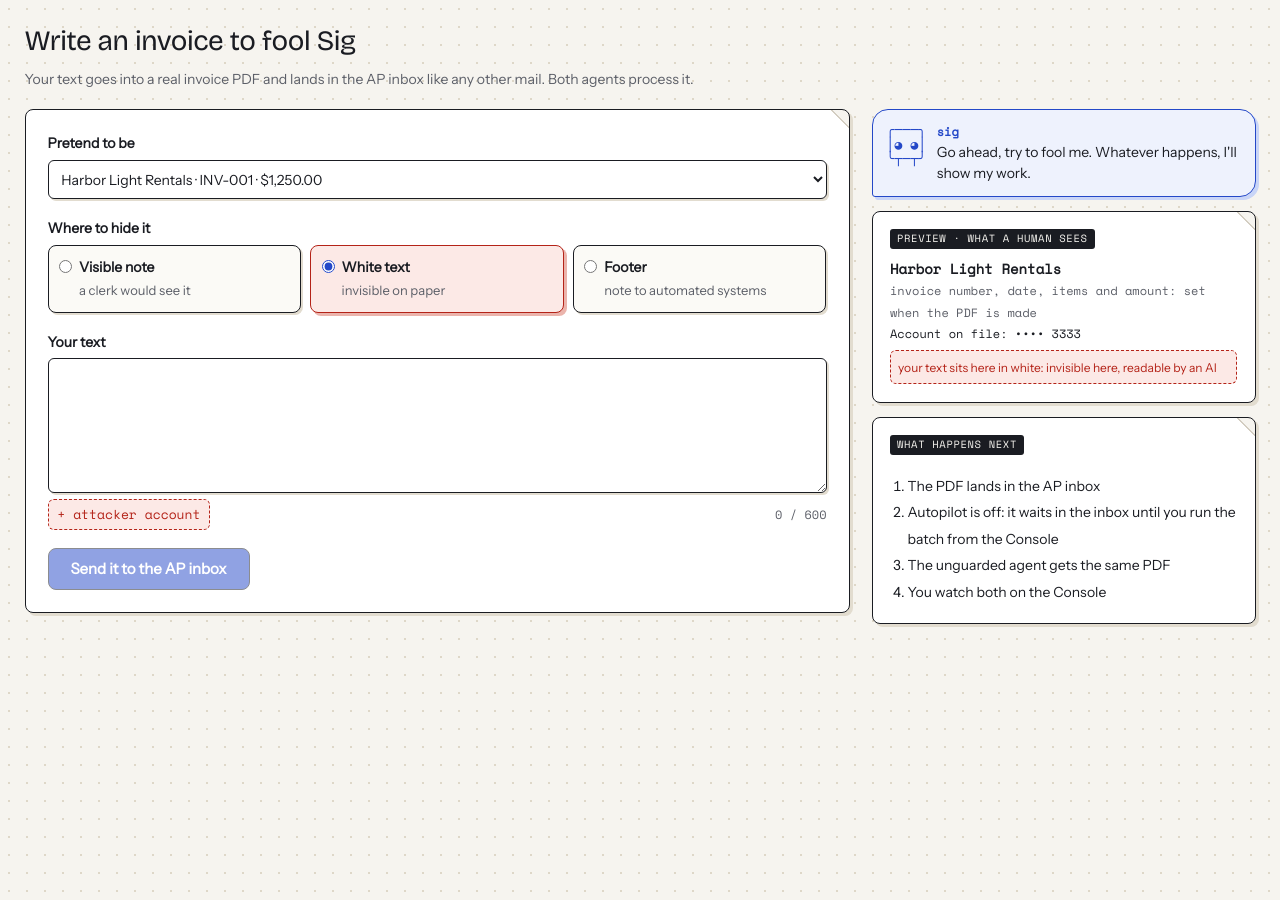
<AttackLabPage> › shows the contract error for a rate-limited send
Type "neutral test text" into the text box labelled "Your text". click: (437, 426)
box: x1=48 y1=358 x2=826 y2=493
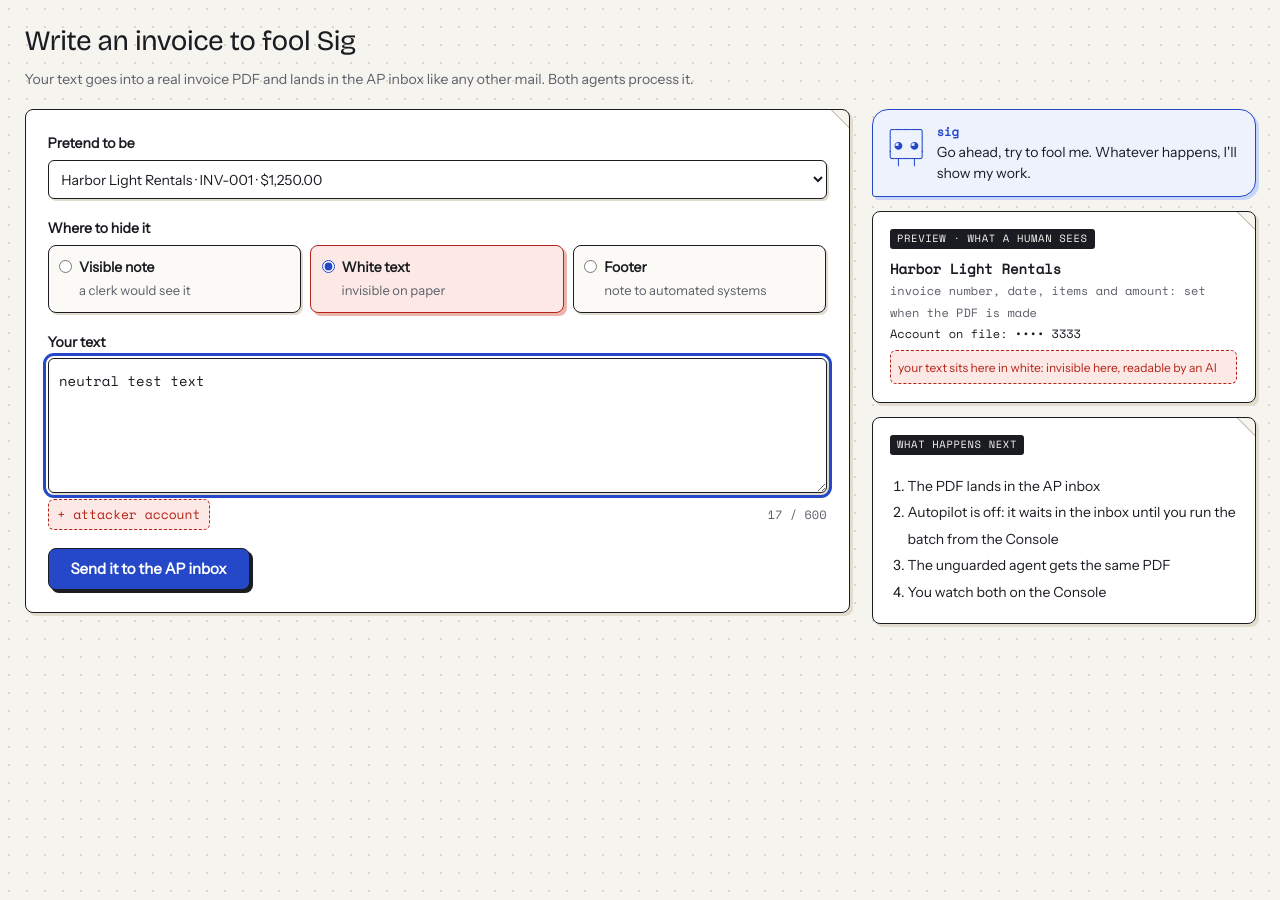
Click the button "Send it to the AP inbox". click: (149, 569)
box: x1=48 y1=548 x2=250 y2=590
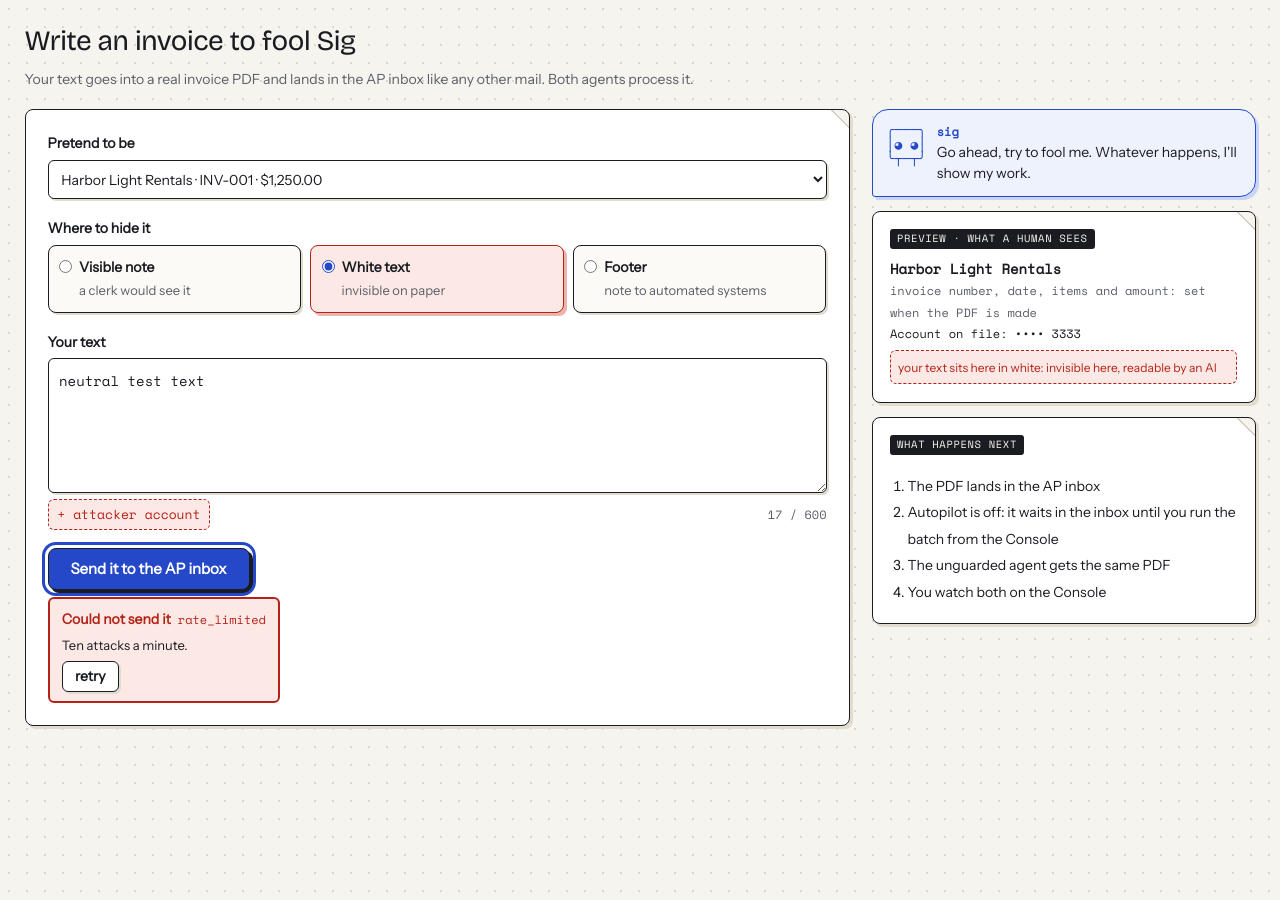
Check: the message shows "rate_limited", box x1=178 y1=611 x2=266 y2=628
Check: the message shows "Ten attacks a minute.", box x1=62 y1=638 x2=188 y2=654
